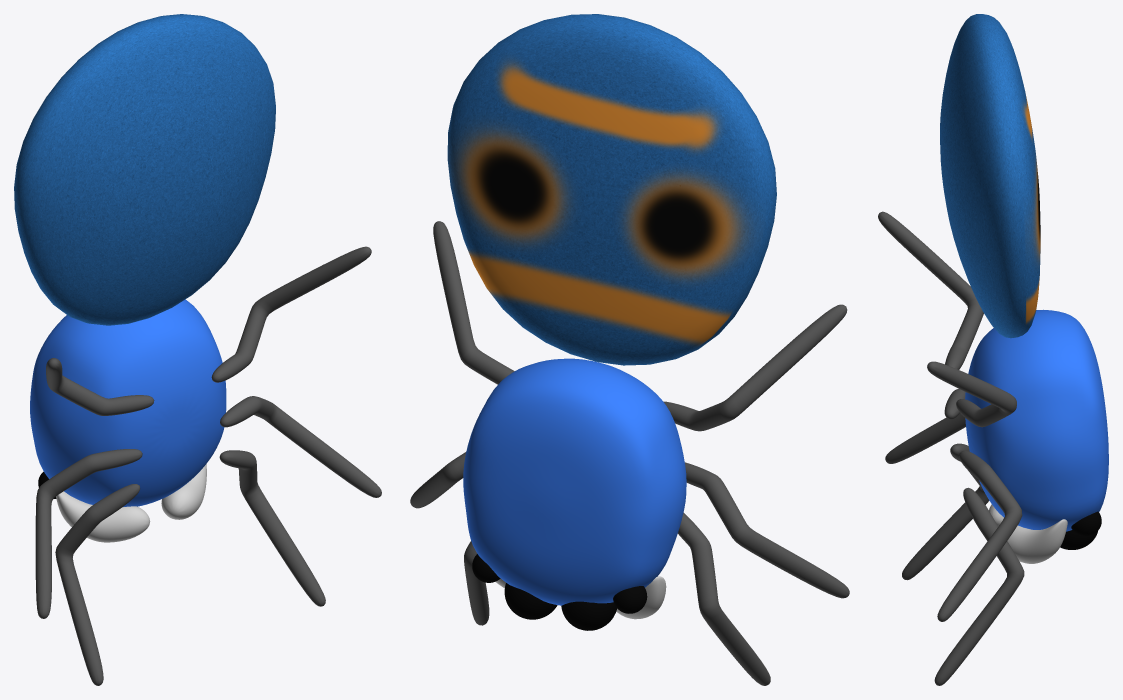
The model's file is Spider68.glb.
The picture shows the model from 3 angles, left to right: view 1: azimuth 30°, elevation 25°; view 2: azimuth 150°, elevation 25°; view 3: azimuth 270°, elevation 25°; orthographic projection. The views are drawn at different scales.
Parts seen in each view (by area): view 1: Butt, Head, Leg.001, Leg.003, Leg.004, Leg.002, Leg, Leg.005, Pincer.001, Pincer; view 2: Butt, Head, Leg.005, Leg.003, Leg.001, Leg.004, Leg.002, Eye, Leg, Eye.001, Pincer.001, Eye.002; view 3: Butt, Head, Leg, Leg.002, Leg.005, Leg.004, Leg.001, Leg.003, Pincer, Eye.003, Eye.001.
Part boxes in pixels (left/top/right/bottom): Butt: left=14, top=14, right=275, bottom=325; Head: left=30, top=299, right=226, bottom=506; Leg.001: left=55, top=484, right=140, bottom=685; Leg.003: left=35, top=449, right=142, bottom=618; Leg.004: left=211, top=246, right=371, bottom=382; Leg.002: left=220, top=396, right=381, bottom=497; Leg: left=219, top=450, right=325, bottom=606; Leg.005: left=46, top=358, right=154, bottom=415; Pincer.001: left=56, top=491, right=150, bottom=542; Pincer: left=161, top=464, right=206, bottom=519; Butt: left=447, top=14, right=776, bottom=365; Head: left=463, top=358, right=686, bottom=605; Leg.005: left=663, top=304, right=847, bottom=431; Leg.003: left=685, top=462, right=849, bottom=598; Leg.001: left=678, top=512, right=770, bottom=685; Leg.004: left=433, top=221, right=514, bottom=384; Leg.002: left=410, top=452, right=465, bottom=508; Eye: left=561, top=601, right=616, bottom=630; Leg: left=464, top=541, right=489, bottom=625; Eye.001: left=504, top=583, right=557, bottom=619; Pincer.001: left=616, top=576, right=666, bottom=619; Eye.002: left=613, top=586, right=647, bottom=613; Butt: left=940, top=14, right=1040, bottom=338; Head: left=965, top=309, right=1108, bottom=531; Leg: left=934, top=487, right=1024, bottom=685; Leg.002: left=937, top=450, right=1022, bottom=621; Leg.005: left=878, top=211, right=983, bottom=369; Leg.004: left=927, top=361, right=1016, bottom=427; Leg.001: left=902, top=443, right=989, bottom=580; Leg.003: left=885, top=389, right=965, bottom=463; Pincer: left=1007, top=519, right=1067, bottom=563; Eye.003: left=1071, top=511, right=1101, bottom=536; Eye.001: left=1060, top=530, right=1097, bottom=549.
Size of the model in its own units: 0.3282 by 0.519 by 0.1822.
5 materials, 1 textured.
